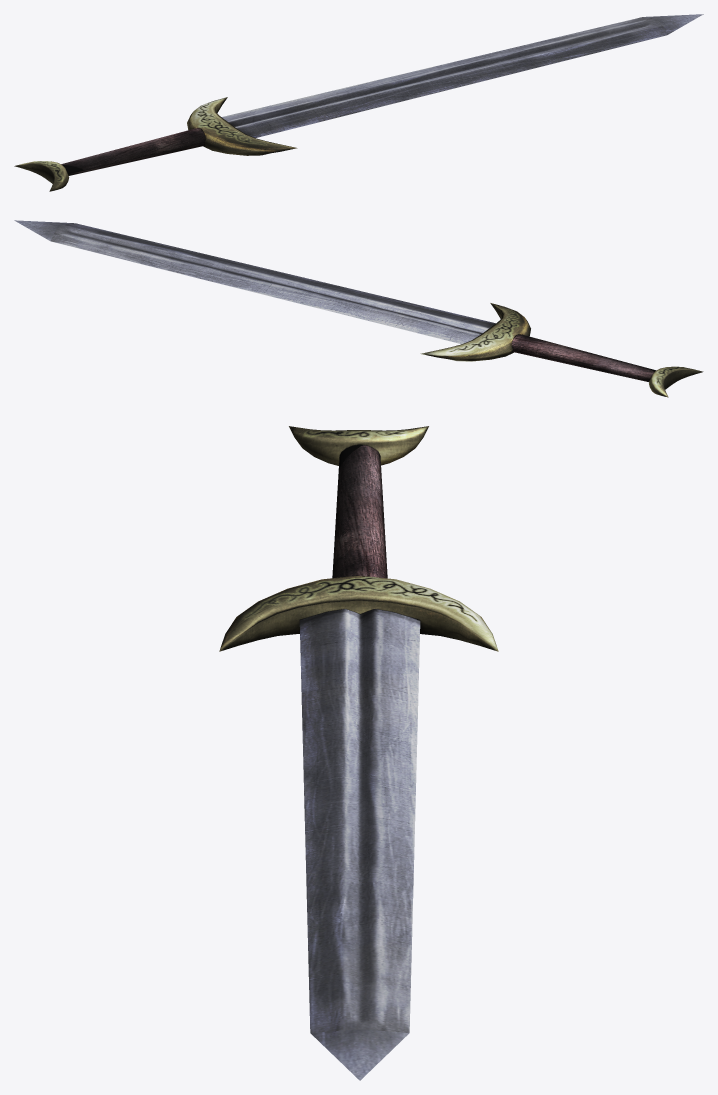
File: SH_Sword_B.FBX
3 renders of one model, top to bottom at view 1: azimuth 30°, elevation 25°; view 2: azimuth 150°, elevation 25°; view 3: azimuth 270°, elevation 25°, orthographic. The views are drawn at different scales.
Parts seen in each view (by area): view 1: SH_Sword_B; view 2: SH_Sword_B; view 3: SH_Sword_B.
Part boxes in pixels (x1=…): SH_Sword_B: x1=14, y1=14, x2=703, y2=191; SH_Sword_B: x1=14, y1=220, x2=703, y2=397; SH_Sword_B: x1=219, y1=426, x2=498, y2=1080.
Bounding box in the file's own units: 149 × 4.27 × 26.79.
